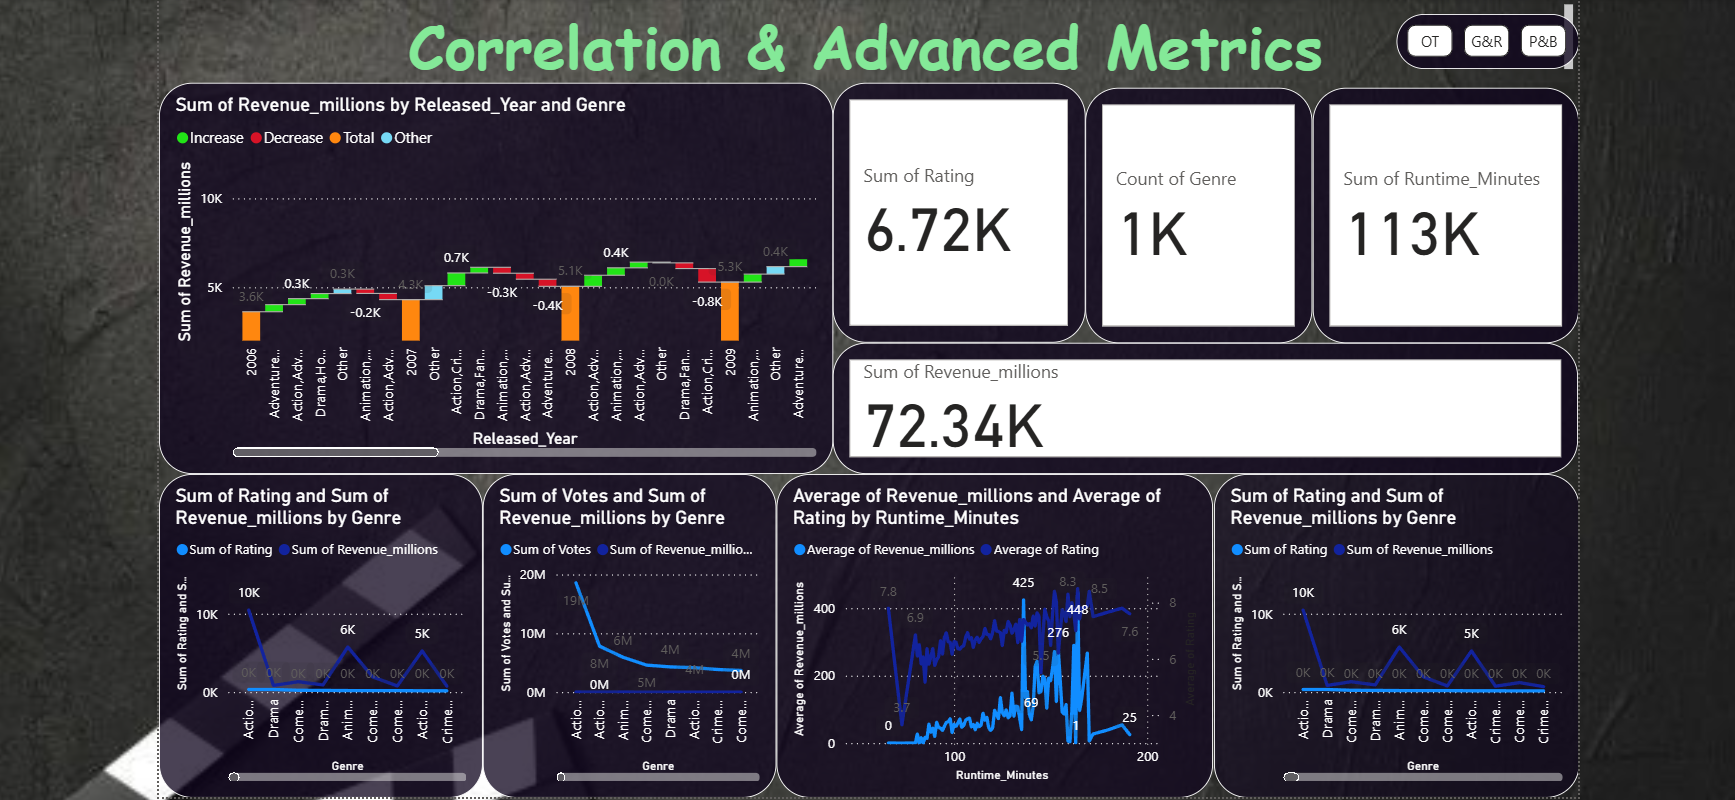

This screenshot's page, from the dashboard's own definition file:
{"tool":"powerbi","page":{"name":"C&M","canvas":[1280,720],"ordinal":3},"visuals":[{"type":"lineChart","fields":{"Y":["Sum(IMDB-Movie-Data.Rating)","Sum(IMDB-Movie-Data.Revenue_millions)"],"Category":["IMDB-Movie-Data.Genre"]},"box":[0,428.1,292.3,292.3],"z":0},{"type":"textbox","box":[2.7,0,1277.5,75.5],"z":1000},{"type":"lineChart","fields":{"Category":["IMDB-Movie-Data.Runtime_Minutes"],"Y":["Avg(IMDB-Movie-Data.Revenue_millions)"],"Y2":["Avg(IMDB-Movie-Data.Rating)"]},"box":[557.1,428.1,393.8,292.3],"z":2000},{"type":"lineChart","fields":{"Y":["Sum(IMDB-Movie-Data.Votes)","Sum(IMDB-Movie-Data.Revenue_millions)"],"Category":["IMDB-Movie-Data.Genre"]},"box":[292.3,428.1,264.8,292.3],"z":3000},{"type":"lineChart","fields":{"Category":["IMDB-Movie-Data.Genre"],"Y":["Sum(IMDB-Movie-Data.Rating)","Sum(IMDB-Movie-Data.Revenue_millions)"]},"box":[950.9,428.1,329.3,292.3],"z":4000},{"type":"waterfallChart","fields":{"Category":["IMDB-Movie-Data.Released_Year"],"Y":["Sum(IMDB-Movie-Data.Revenue_millions)"],"Breakdown":["IMDB-Movie-Data.Genre"]},"box":[0,75.5,607.9,352.7],"z":5000},{"type":"cardVisual","fields":{"Data":["Sum(IMDB-Movie-Data.Revenue_millions)"]},"box":[607.9,310.1,672.4,118],"z":6000},{"type":"cardVisual","fields":{"Data":["Sum(IMDB-Movie-Data.Rating)"]},"box":[607.9,75.5,227.8,234.6],"z":7000},{"type":"cardVisual","fields":{"Data":["CountNonNull(IMDB-Movie-Data.Genre)"]},"box":[835.7,79.6,204.5,230.5],"z":8000},{"type":"cardVisual","fields":{"Data":["Sum(IMDB-Movie-Data.Runtime_Minutes)"]},"box":[1040.1,79.6,240.1,230.5],"z":9000},{"type":"pageNavigator","box":[1115.6,13.7,164.7,49.4],"z":10000}]}

Visuals, with their boxes on the page's 1280x720 design canvas (x1, y1, x2, y2). These are canvas units, not pixel positions in the 1735x800 screenshot, which may show the page scaled, cropped or inside an application window:
lineChart - Sum(IMDB-Movie-Data.Rating) x Sum(IMDB-Movie-Data.Revenue_millions): (x1=0, y1=428, x2=292, y2=720)
textbox: (x1=3, y1=0, x2=1280, y2=76)
lineChart - IMDB-Movie-Data.Runtime_Minutes x Avg(IMDB-Movie-Data.Revenue_millions): (x1=557, y1=428, x2=951, y2=720)
lineChart - Sum(IMDB-Movie-Data.Votes) x Sum(IMDB-Movie-Data.Revenue_millions): (x1=292, y1=428, x2=557, y2=720)
lineChart - IMDB-Movie-Data.Genre x Sum(IMDB-Movie-Data.Rating): (x1=951, y1=428, x2=1280, y2=720)
waterfallChart - IMDB-Movie-Data.Released_Year x Sum(IMDB-Movie-Data.Revenue_millions): (x1=0, y1=76, x2=608, y2=428)
cardVisual - Sum(IMDB-Movie-Data.Revenue_millions): (x1=608, y1=310, x2=1280, y2=428)
cardVisual - Sum(IMDB-Movie-Data.Rating): (x1=608, y1=76, x2=836, y2=310)
cardVisual - CountNonNull(IMDB-Movie-Data.Genre): (x1=836, y1=80, x2=1040, y2=310)
cardVisual - Sum(IMDB-Movie-Data.Runtime_Minutes): (x1=1040, y1=80, x2=1280, y2=310)
pageNavigator: (x1=1116, y1=14, x2=1280, y2=63)
